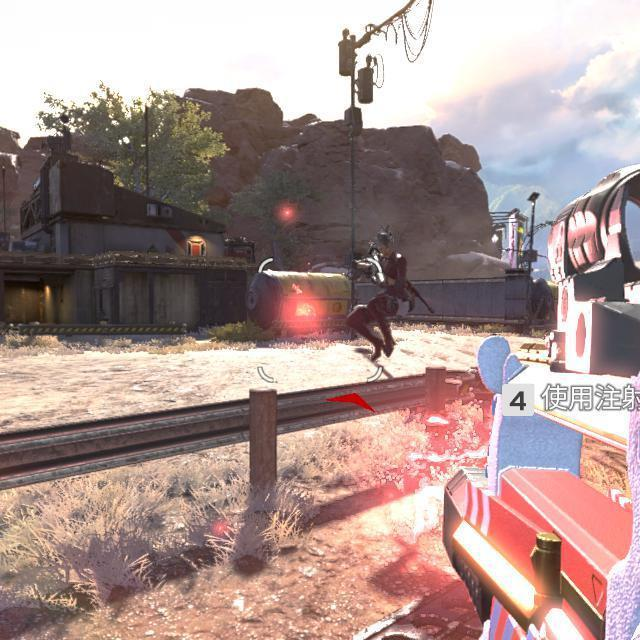avatar: (343, 228, 415, 365)
